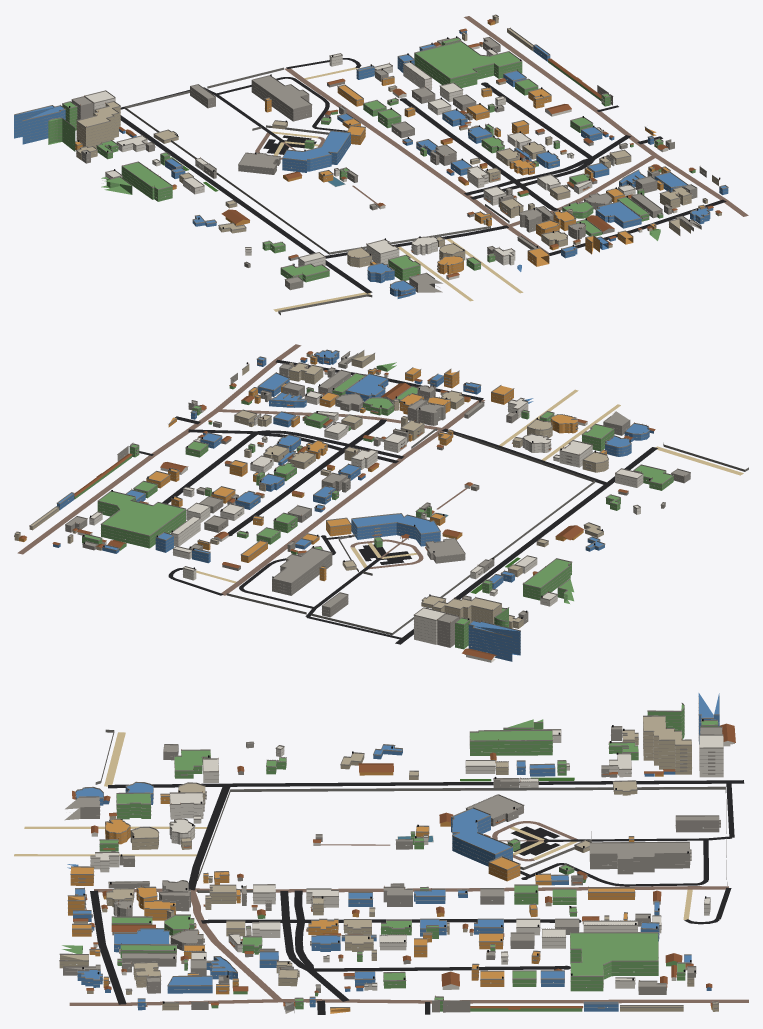
Rendered from zone_t4_-1.glb.
The picture shows the model from 3 angles, top to bottom: view 1: azimuth 30°, elevation 25°; view 2: azimuth 150°, elevation 25°; view 3: azimuth 270°, elevation 25°; orthographic projection. The views are drawn at different scales.
Parts seen in each view (by area): view 1: parapet_t4_-1, bld_peinture_vert_t4_-1-col, bld_peinture_bleu_t4_-1-col, bld_beton_t4_-1-col, bld_peinture_ecaillee_t4_-1-col, bld_peinture_blanc_t4_-1-col, bld_peinture_ocre_t4_-1-col, route_residential_bitume_t4_-1, bandeau_t4_-1, route_residential_paves_t4_-1, toit_tole_t4_-1, mur_wall_t4_-1-col (+3 smaller); view 2: parapet_t4_-1, bld_peinture_vert_t4_-1-col, bld_peinture_bleu_t4_-1-col, bld_beton_t4_-1-col, bld_peinture_blanc_t4_-1-col, bld_peinture_ecaillee_t4_-1-col, bld_peinture_ocre_t4_-1-col, route_residential_bitume_t4_-1, bandeau_t4_-1, route_residential_paves_t4_-1, toit_tole_t4_-1, mur_wall_t4_-1-col (+3 smaller); view 3: parapet_t4_-1, bld_peinture_vert_t4_-1-col, bld_beton_t4_-1-col, bld_peinture_bleu_t4_-1-col, bld_peinture_blanc_t4_-1-col, bld_peinture_ecaillee_t4_-1-col, route_residential_bitume_t4_-1, bld_peinture_ocre_t4_-1-col, bandeau_t4_-1, toit_tole_t4_-1, route_residential_paves_t4_-1, mur_wall_t4_-1-col (+5 smaller).
Part boxes in pixels (box(x1,y1,x2,y2)): parapet_t4_-1: box(14, 14, 728, 291); bld_peinture_vert_t4_-1-col: box(48, 38, 695, 282); bld_peinture_bleu_t4_-1-col: box(14, 30, 728, 298); bld_beton_t4_-1-col: box(71, 37, 706, 292); bld_peinture_ecaillee_t4_-1-col: box(76, 15, 721, 267); bld_peinture_blanc_t4_-1-col: box(86, 46, 677, 279); bld_peinture_ocre_t4_-1-col: box(75, 21, 704, 274); route_residential_bitume_t4_-1: box(120, 82, 726, 293); bandeau_t4_-1: box(14, 20, 728, 294); route_residential_paves_t4_-1: box(284, 68, 748, 253); toit_tole_t4_-1: box(119, 19, 721, 296); mur_wall_t4_-1-col: box(124, 67, 509, 315); parapet_t4_-1: box(14, 349, 690, 637); bld_peinture_vert_t4_-1-col: box(74, 362, 673, 649); bld_peinture_bleu_t4_-1-col: box(53, 350, 653, 661); bld_beton_t4_-1-col: box(65, 352, 690, 647); bld_peinture_blanc_t4_-1-col: box(77, 372, 643, 662); bld_peinture_ecaillee_t4_-1-col: box(14, 351, 608, 628); bld_peinture_ocre_t4_-1-col: box(19, 356, 606, 581); route_residential_bitume_t4_-1: box(162, 359, 657, 644); bandeau_t4_-1: box(14, 355, 690, 658); route_residential_paves_t4_-1: box(198, 344, 484, 595); toit_tole_t4_-1: box(19, 351, 655, 660); mur_wall_t4_-1-col: box(226, 428, 748, 635); parapet_t4_-1: box(59, 696, 723, 1009); bld_peinture_vert_t4_-1-col: box(62, 704, 718, 1011); bld_beton_t4_-1-col: box(63, 727, 722, 1013); bld_peinture_bleu_t4_-1-col: box(67, 693, 719, 1011); bld_peinture_blanc_t4_-1-col: box(90, 730, 734, 1009); bld_peinture_ecaillee_t4_-1-col: box(59, 716, 718, 1011); route_residential_bitume_t4_-1: box(90, 780, 744, 1004); bld_peinture_ocre_t4_-1-col: box(68, 759, 712, 1013); bandeau_t4_-1: box(60, 710, 723, 1009); toit_tole_t4_-1: box(72, 723, 735, 1008); route_residential_paves_t4_-1: box(69, 886, 728, 1005); mur_wall_t4_-1-col: box(95, 729, 727, 892).
Size of the model in its own units: 525 by 26 by 554.
